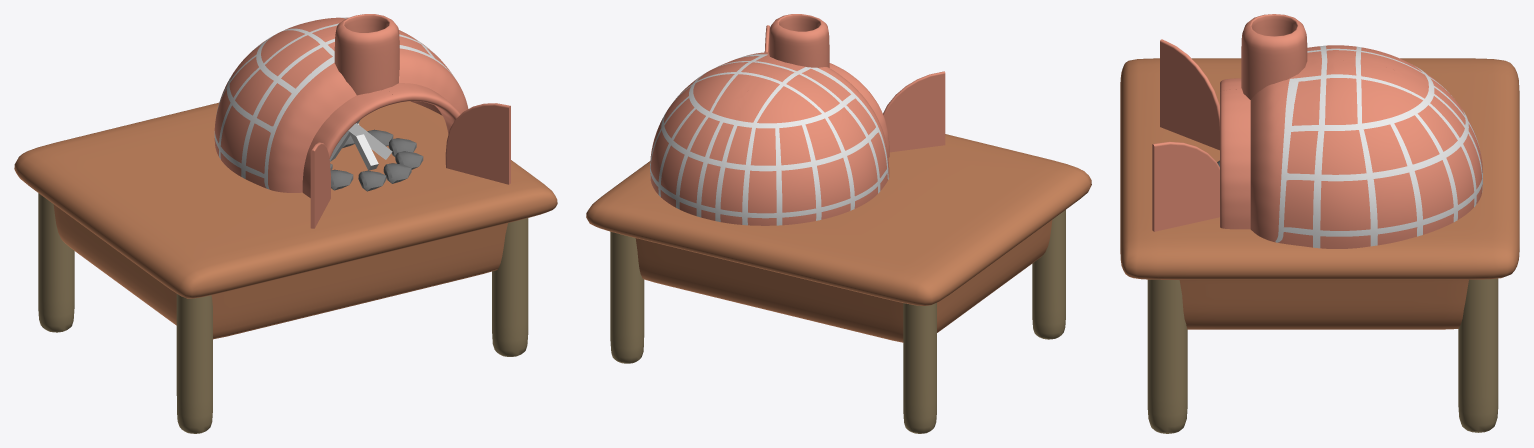
Rendered from Firin.fbx.
3 renders of one model, left to right at view 1: azimuth 30°, elevation 25°; view 2: azimuth 150°, elevation 25°; view 3: azimuth 270°, elevation 25°, orthographic. The views are drawn at different scales.
Parts seen in each view (by area): view 1: Plane.046, Cube.032, Cube.033, Plane.001, Cube.034, Plane.048, Plane.002, Icosphere.015; view 2: Plane.046, Cube.032, Plane.002, Plane.050, Cube.033, Plane.001, Cube.034; view 3: Plane.046, Cube.032, Cube.033, Plane.048, Plane.050, Cube.034.
Part boxes in pixels (bbox=[...]): Plane.046: bbox=[14, 101, 557, 339]; Cube.032: bbox=[214, 17, 468, 197]; Cube.033: bbox=[310, 103, 510, 228]; Plane.001: bbox=[176, 294, 212, 433]; Cube.034: bbox=[334, 14, 399, 95]; Plane.048: bbox=[492, 218, 528, 356]; Plane.002: bbox=[38, 193, 74, 332]; Icosphere.015: bbox=[329, 120, 423, 191]; Plane.046: bbox=[586, 134, 1091, 342]; Cube.032: bbox=[650, 52, 889, 225]; Plane.002: bbox=[903, 303, 936, 433]; Plane.050: bbox=[610, 231, 644, 363]; Cube.033: bbox=[764, 25, 945, 152]; Plane.001: bbox=[1032, 210, 1065, 339]; Cube.034: bbox=[769, 14, 829, 67]; Plane.046: bbox=[1120, 58, 1519, 329]; Cube.032: bbox=[1220, 45, 1482, 248]; Cube.033: bbox=[1152, 39, 1219, 231]; Plane.048: bbox=[1147, 279, 1187, 433]; Plane.050: bbox=[1458, 278, 1498, 432]; Cube.034: bbox=[1241, 14, 1307, 99].
Size of the model in its own units: 1331 by 1071 by 1097.
